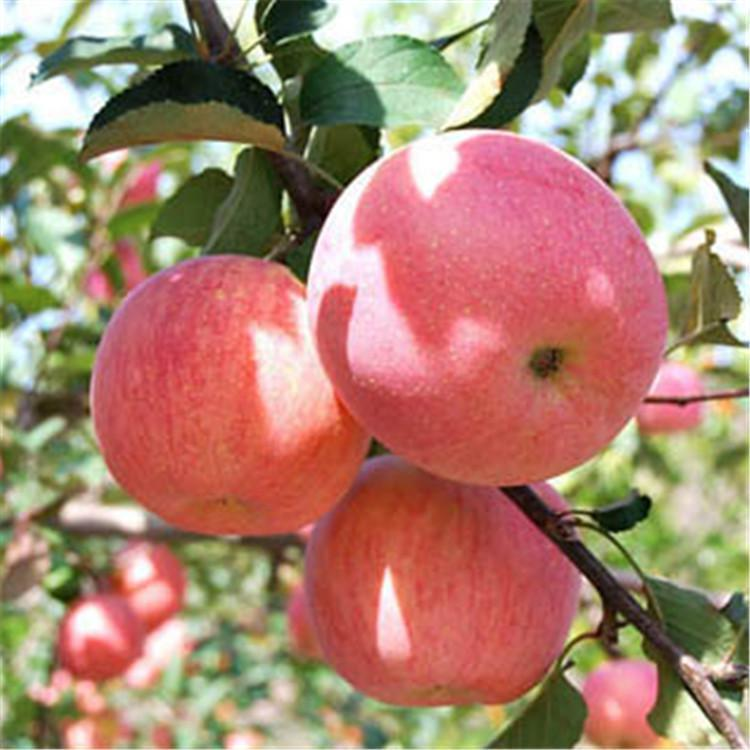apple: (306, 129, 671, 488), (89, 254, 370, 537), (303, 458, 597, 710), (577, 653, 664, 746)
